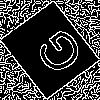G: (25, 25, 87, 85)
